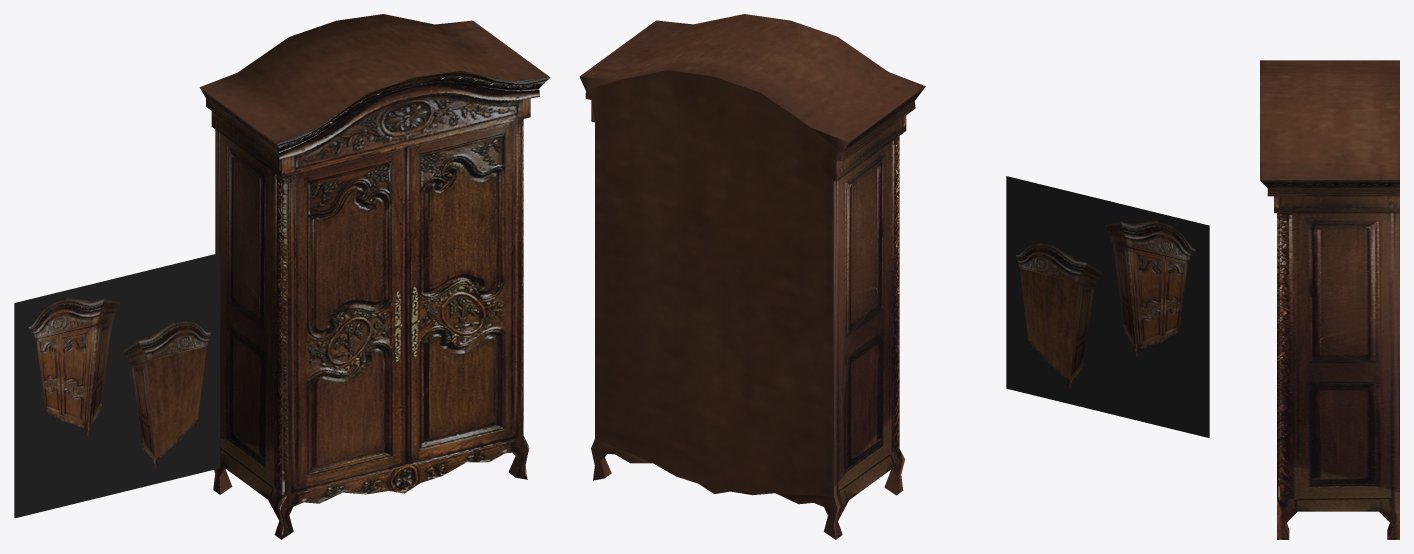
The model's file is storage_g.fbx.
3 views of the same model, side by side, from view 1: azimuth 30°, elevation 25°; view 2: azimuth 150°, elevation 25°; view 3: azimuth 270°, elevation 25° (orthographic). The views are drawn at different scales.
Parts seen in each view (by area): view 1: storage_g, storage_g_before; view 2: storage_g, storage_g_before; view 3: storage_g.
Boxes of the visible parts, bbox=[...] form: storage_g: bbox=[199, 14, 550, 539]; storage_g_before: bbox=[14, 253, 220, 518]; storage_g: bbox=[579, 14, 925, 539]; storage_g_before: bbox=[1006, 176, 1209, 437]; storage_g: bbox=[1260, 60, 1399, 539].
Size of the model in its own units: 266 by 204 by 75.65.
